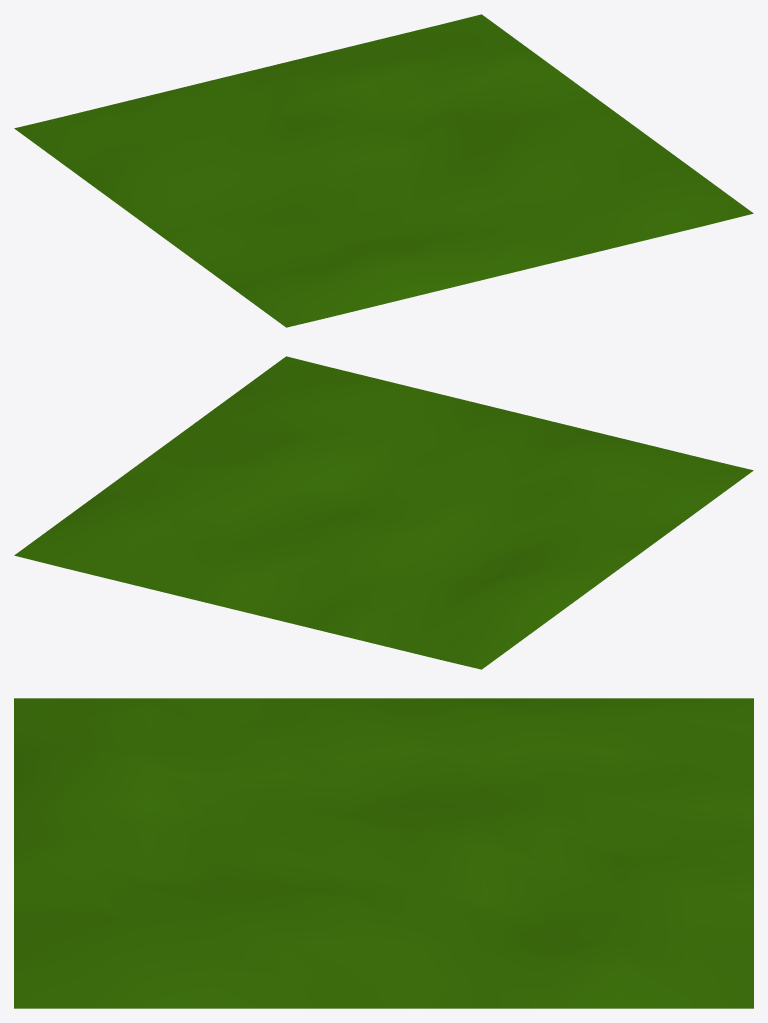
File: Cave Flat.fbx
3 views of the same model, one above another, from view 1: azimuth 30°, elevation 25°; view 2: azimuth 150°, elevation 25°; view 3: azimuth 270°, elevation 25° (orthographic). The views are drawn at different scales.
Parts seen in each view (by area): view 1: Snow.001; view 2: Snow.001; view 3: Snow.001.
Part boxes in pixels (x1=…): Snow.001: x1=14, y1=14, x2=753, y2=327; Snow.001: x1=14, y1=356, x2=753, y2=669; Snow.001: x1=14, y1=698, x2=753, y2=1008.
Bounding box in the file's own units: 200 × 6.62 × 202.
